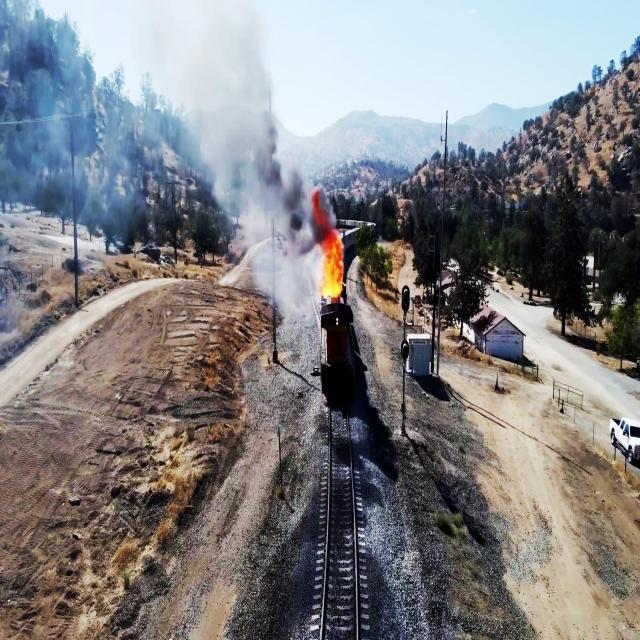Fire: (315, 204, 349, 304)
Smoke: (228, 36, 282, 216)
